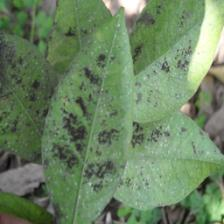Melanose: (0, 15, 193, 206)
